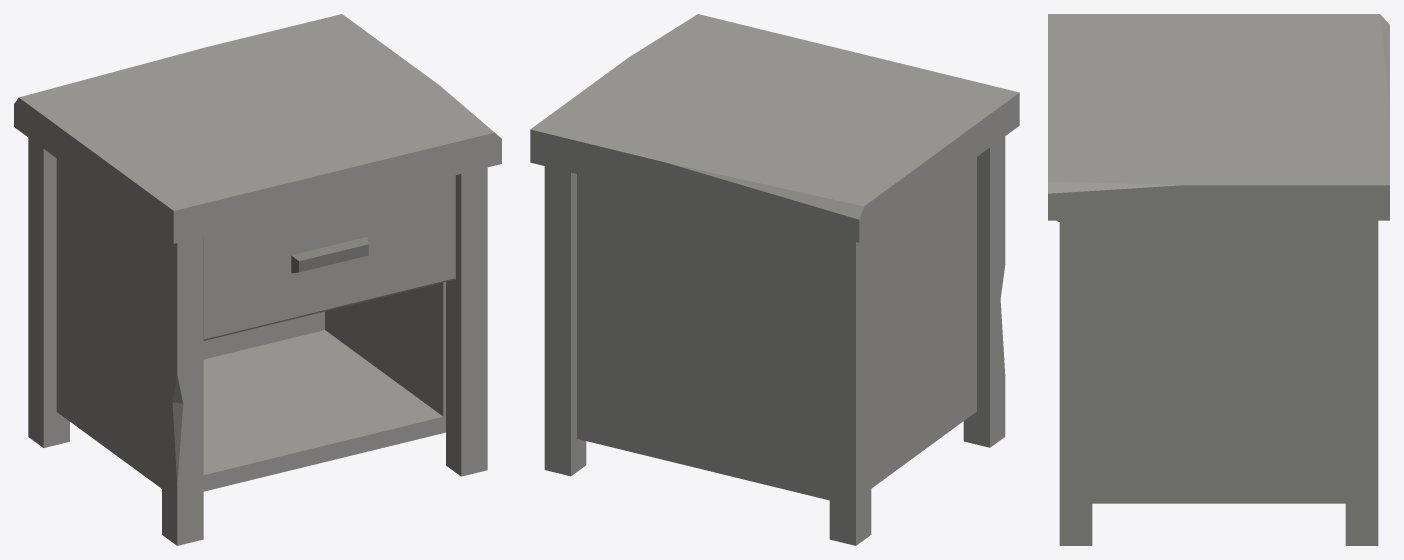
Rendered from SM_Props_Interior_House_Room_SideTable_01.fbx.
3 views of the same model, side by side, from view 1: azimuth 30°, elevation 25°; view 2: azimuth 150°, elevation 25°; view 3: azimuth 270°, elevation 25° (orthographic). The views are drawn at different scales.
Visible parts, largest first — view 1: SM_Props_Interior_House_Room_SideTable_01, SM_Props_Interior_House_Room_SideTable_01_Door; view 2: SM_Props_Interior_House_Room_SideTable_01; view 3: SM_Props_Interior_House_Room_SideTable_01.
Boxes of the visible parts, <box> form: SM_Props_Interior_House_Room_SideTable_01: <box>14,14,501,545</box>; SM_Props_Interior_House_Room_SideTable_01_Door: <box>203,175,455,340</box>; SM_Props_Interior_House_Room_SideTable_01: <box>530,14,1019,545</box>; SM_Props_Interior_House_Room_SideTable_01: <box>1048,14,1389,545</box>.
Bounding box in the file's own units: 62.39 × 62 × 52.6.
